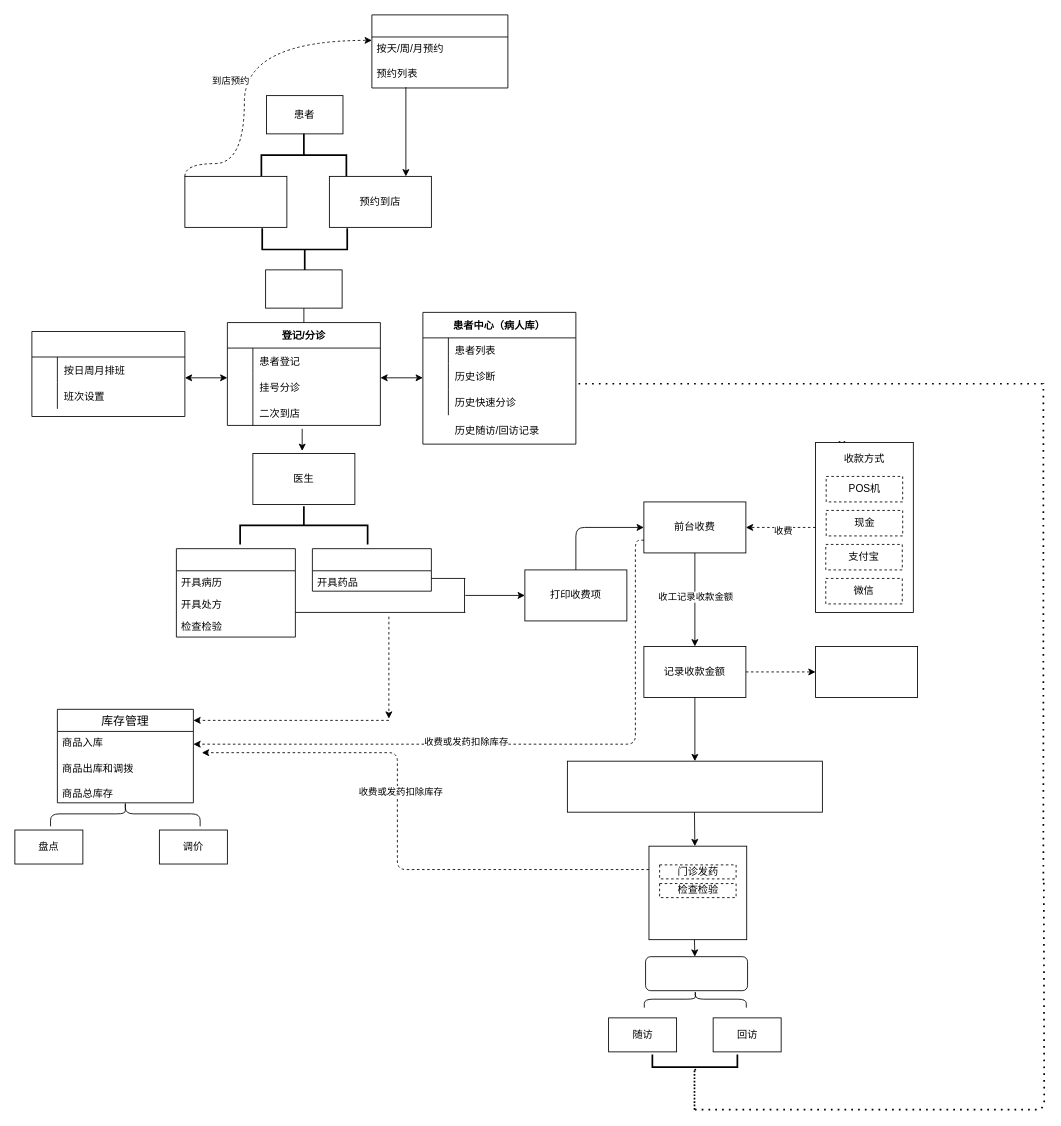
The diagram is 1061 pixels wide and 1126 high, and some of its shapes have lost their labels. Here are the shapes that lost their labels. From the top down, the box of each, then its label:
(371, 14, 508, 88): 患者预约
(184, 176, 287, 227): 直接到店
(265, 269, 342, 308): 登记员
(31, 331, 185, 416): 医生排班
(312, 548, 431, 591): 快速拿药
(176, 548, 295, 637): 医生门诊
(815, 646, 918, 697): 打印充值金额
(567, 760, 822, 812): 收费完成
(645, 956, 748, 991): 结束
